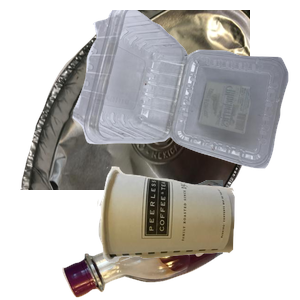glass: (60, 180, 300, 300)
metal: (18, 10, 258, 190)
plastic: (70, 10, 300, 171)
trash: (95, 164, 300, 300)
